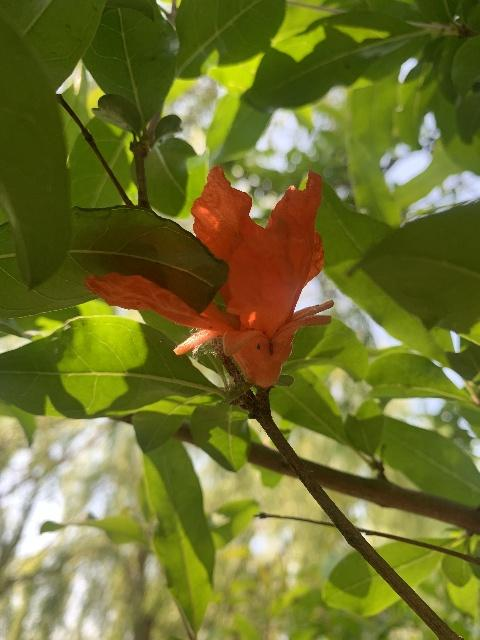flower: (83, 164, 333, 387)
